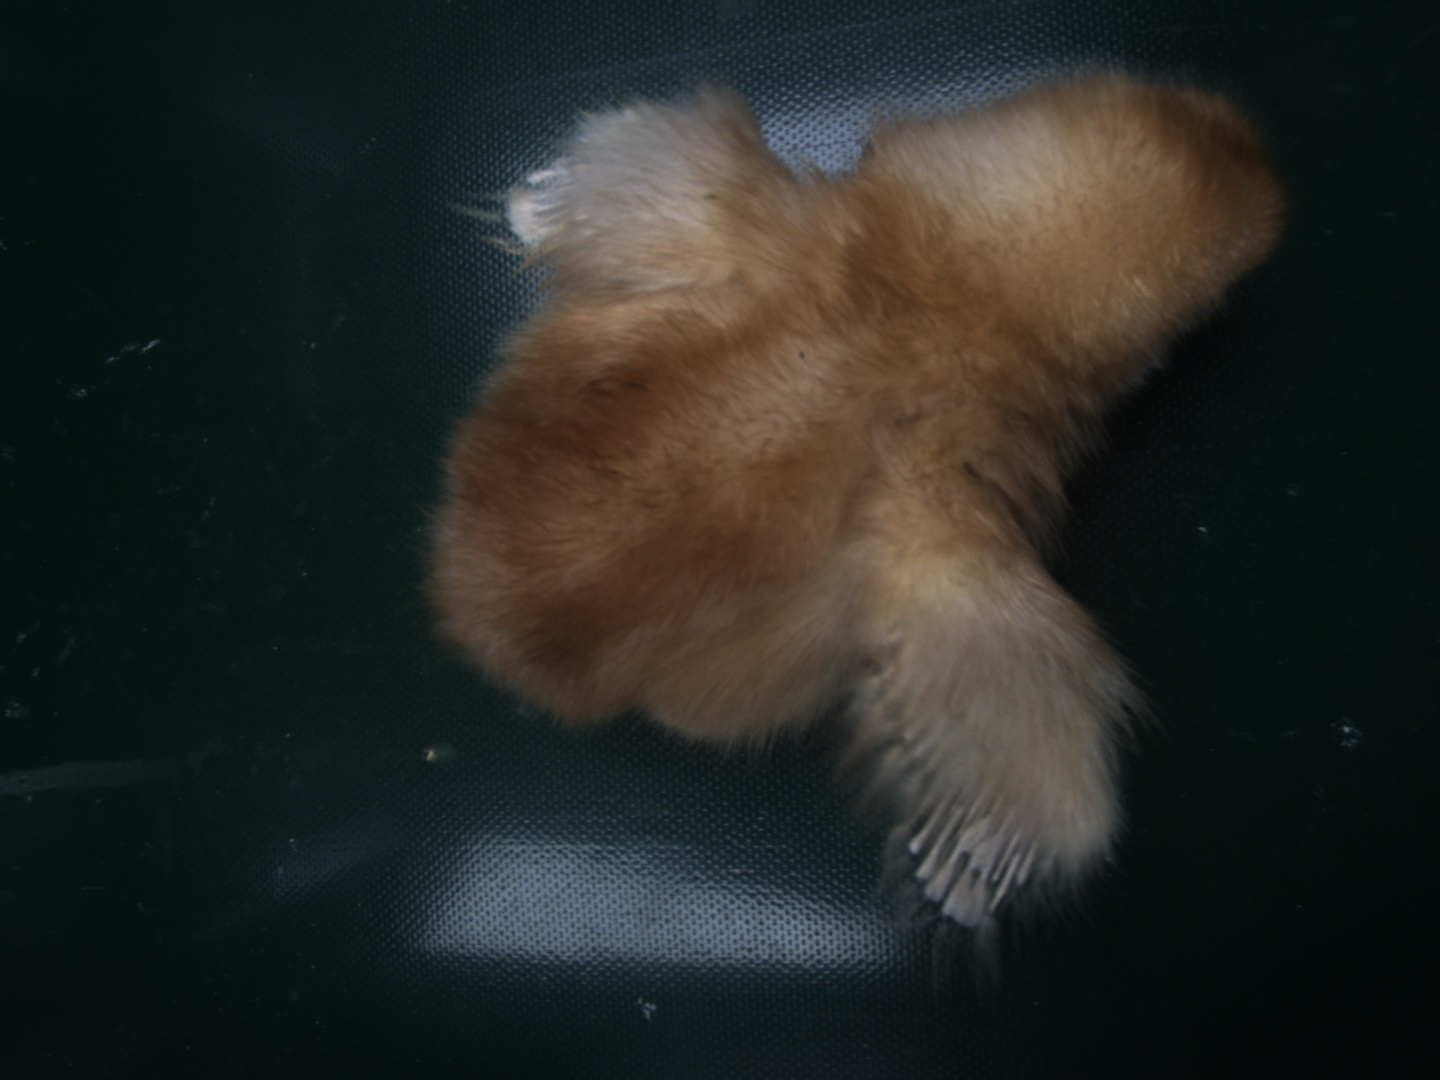female: (910, 785, 1047, 933)
